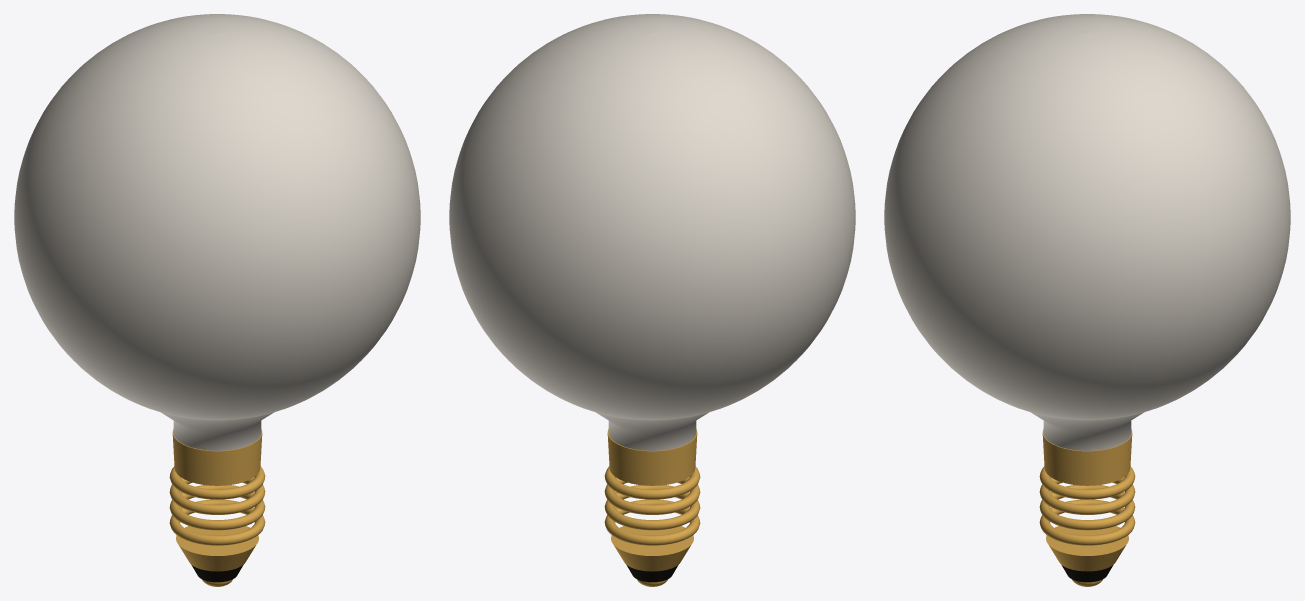
The model's file is deco-ampoule-velluce.glb.
The picture shows the model from 3 angles, left to right: view 1: azimuth 30°, elevation 25°; view 2: azimuth 150°, elevation 25°; view 3: azimuth 270°, elevation 25°; orthographic projection.
Parts seen in each view (by area): view 1: verre, ampoule-velluce; view 2: verre, ampoule-velluce; view 3: verre, ampoule-velluce.
Part boxes in pixels (x1,y1,x2,y2): verre: (14, 14, 420, 450); ampoule-velluce: (169, 429, 265, 586); verre: (449, 14, 855, 450); ampoule-velluce: (604, 429, 700, 586); verre: (884, 14, 1290, 450); ampoule-velluce: (1039, 429, 1135, 586).
Size of the model in its own units: 0.125 by 0.1871 by 0.125.
